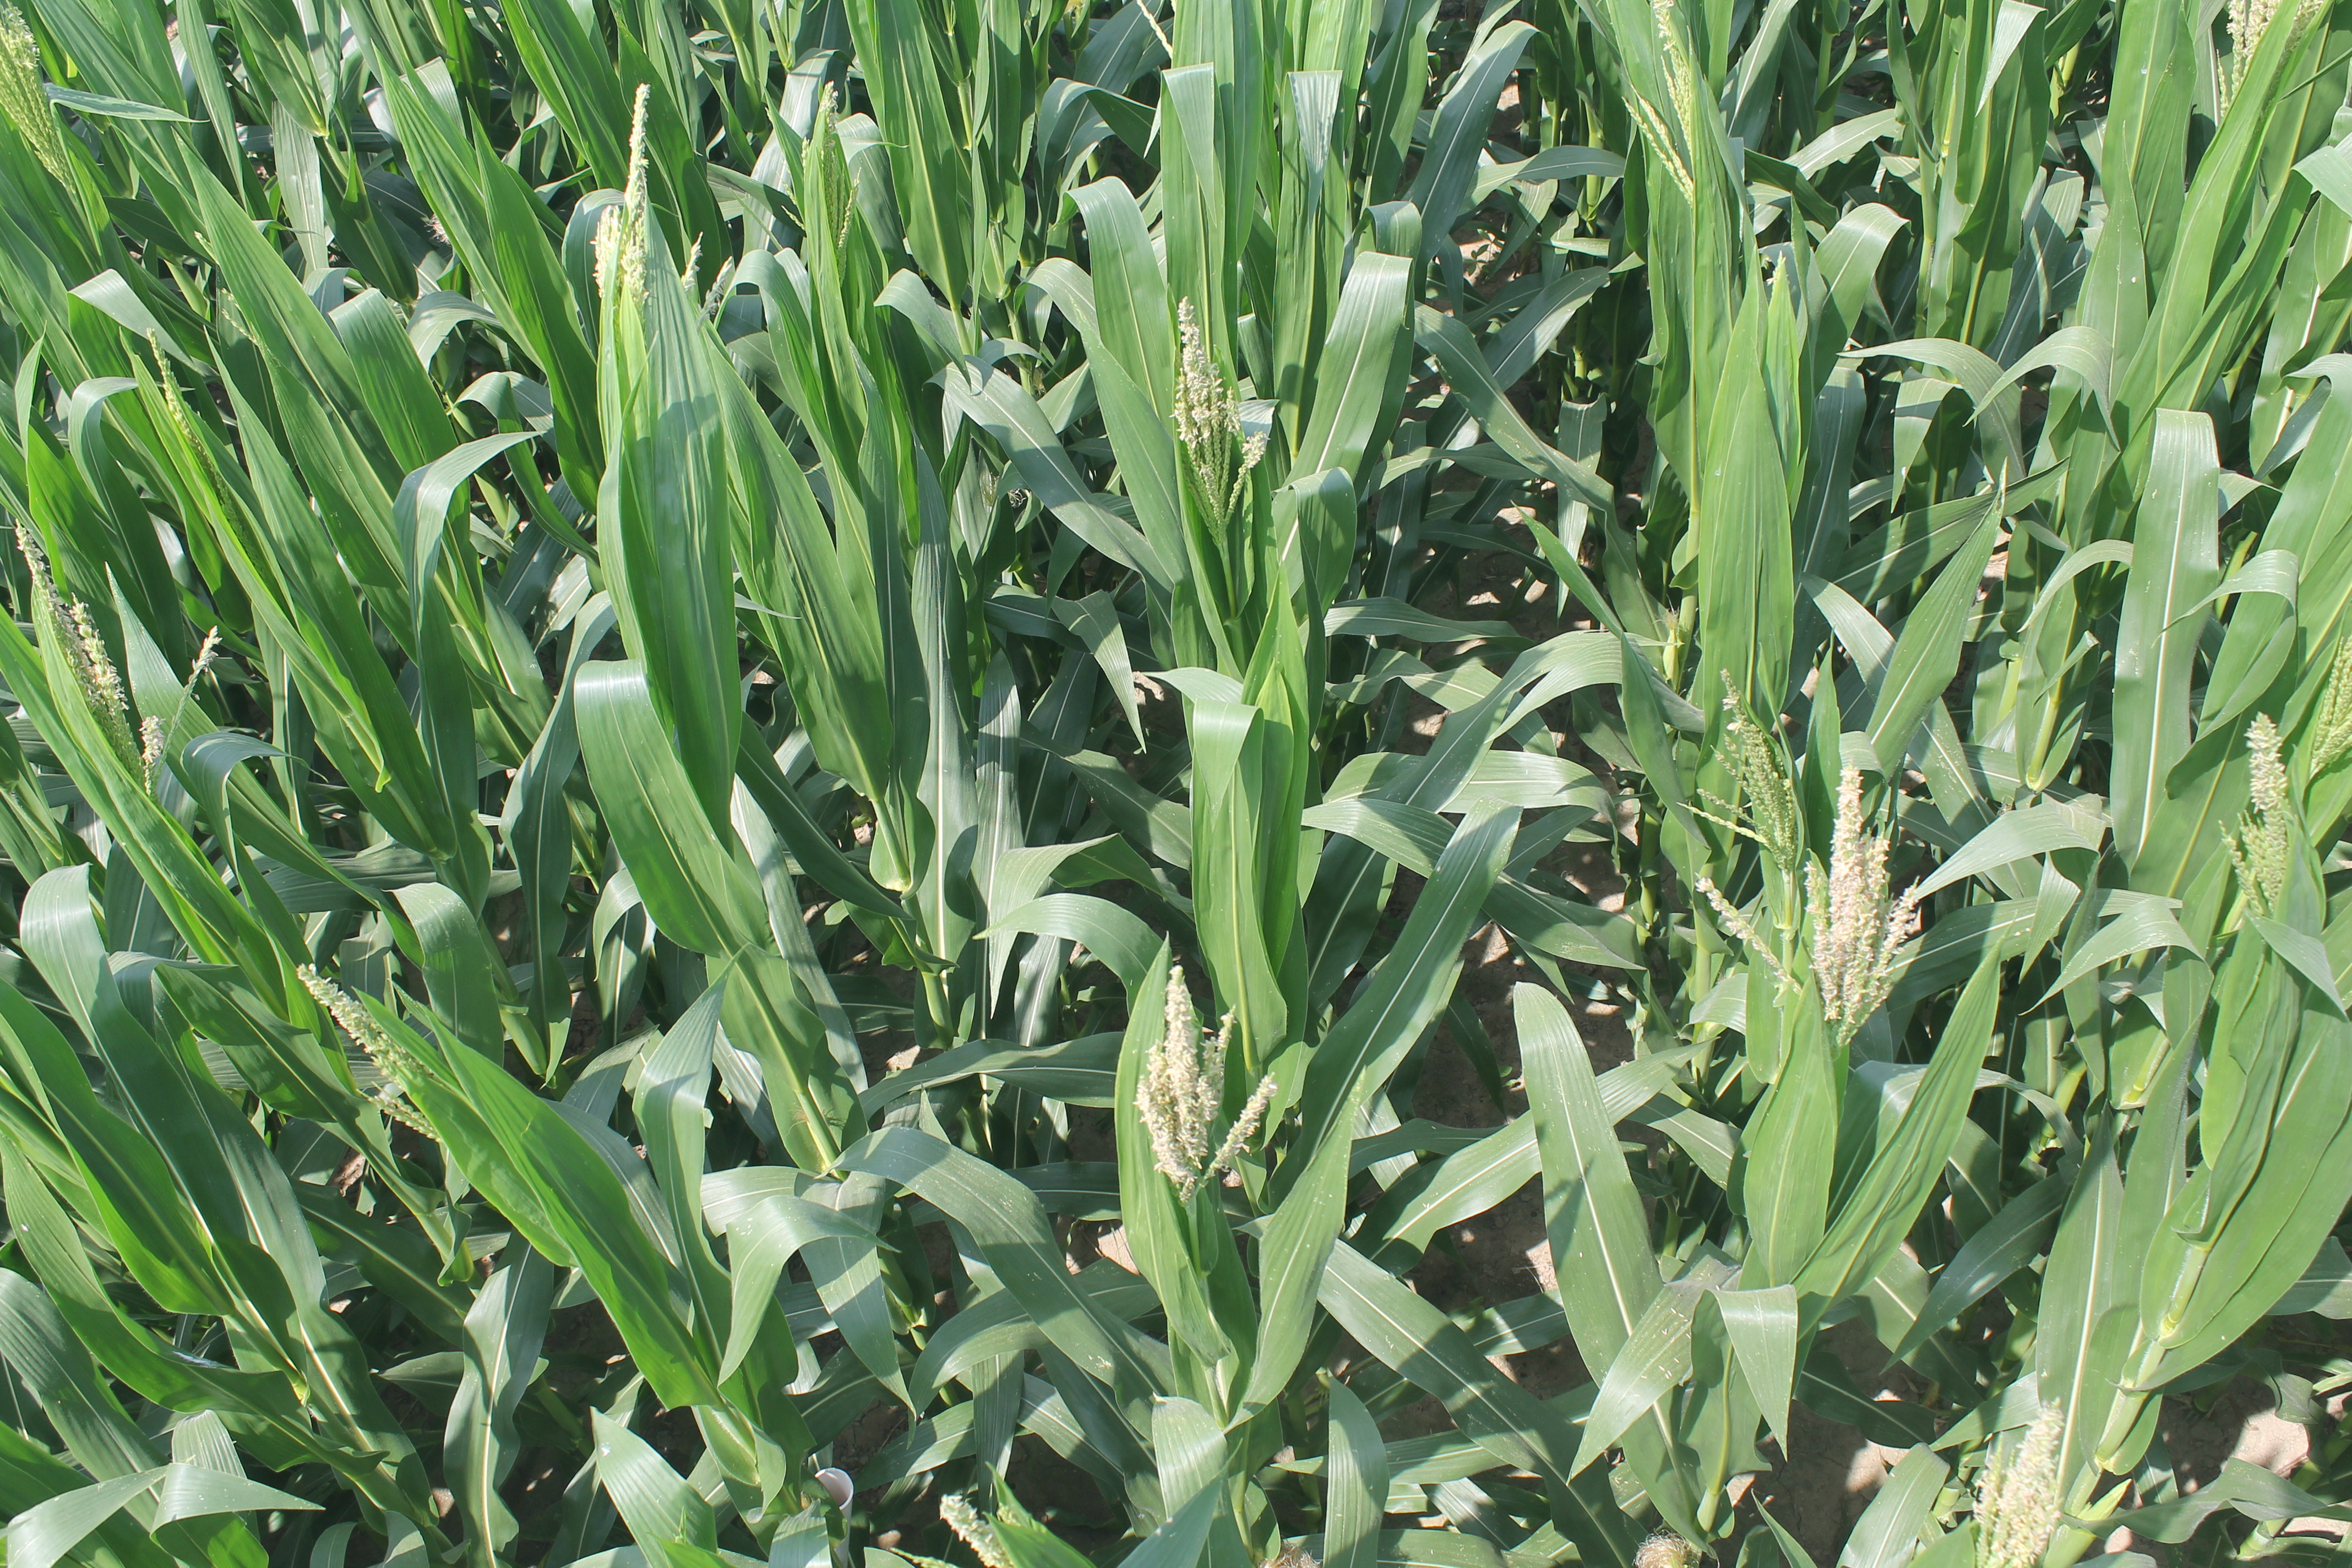Maize: (3, 514, 136, 784), (1127, 966, 1276, 1186), (1813, 759, 1927, 1031), (283, 961, 441, 1143), (1962, 1391, 2086, 1568), (1701, 661, 1802, 868), (1158, 296, 1267, 488), (2203, 717, 2298, 920), (590, 79, 658, 292), (1636, 0, 1703, 198), (2210, 0, 2275, 128), (2306, 632, 2352, 779)
